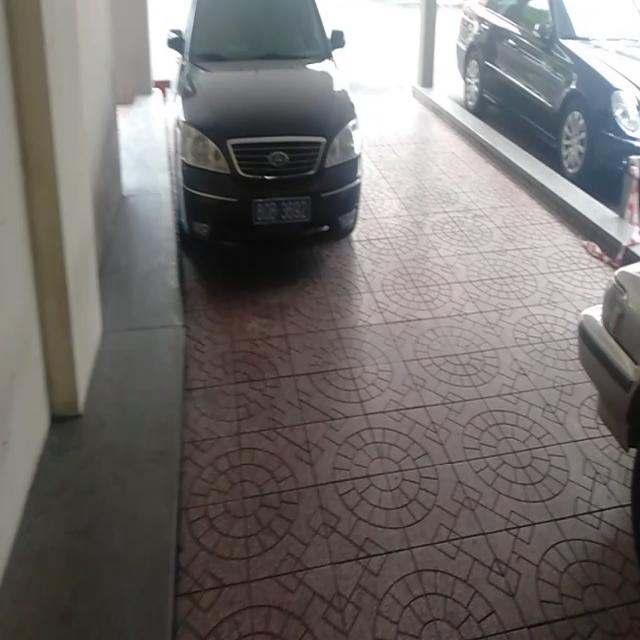bien_xanh: (252, 196, 314, 227)
